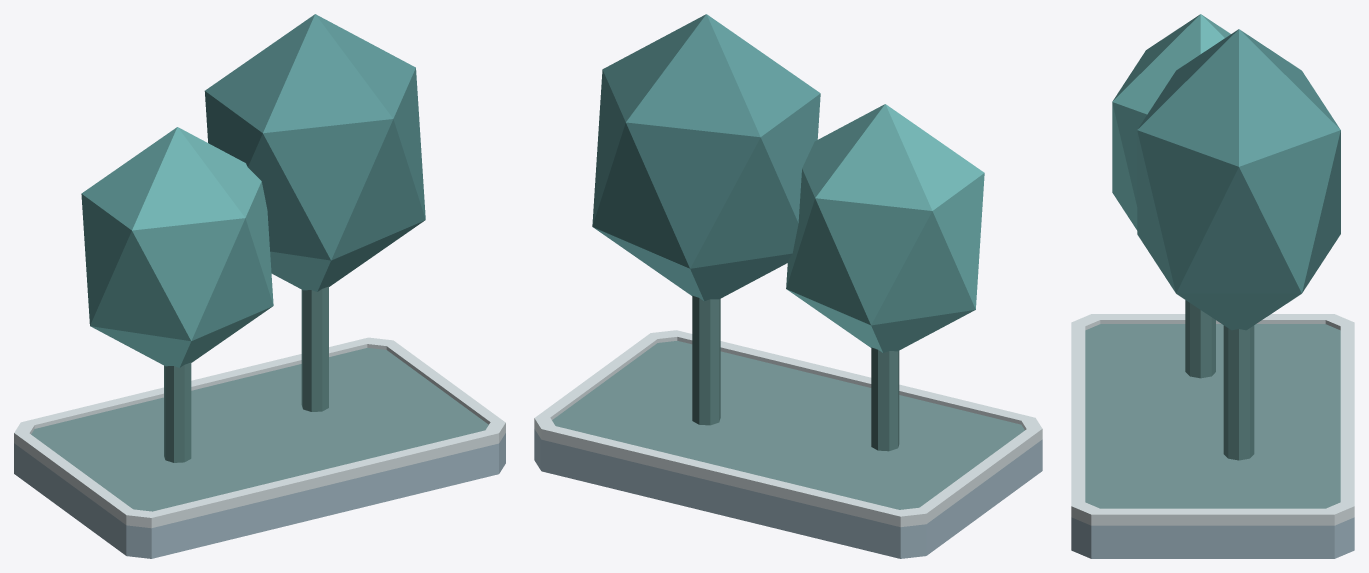
File: campus_tree_cluster_v01.glb
The picture shows the model from 3 angles, left to right: view 1: azimuth 30°, elevation 25°; view 2: azimuth 150°, elevation 25°; view 3: azimuth 270°, elevation 25°; orthographic projection. The views are drawn at different scales.
Parts seen in each view (by area): view 1: campus_tree_cluster; view 2: campus_tree_cluster; view 3: campus_tree_cluster.
Part boxes in pixels (<box>): campus_tree_cluster: <box>14,14,505,558</box>; campus_tree_cluster: <box>534,14,1042,558</box>; campus_tree_cluster: <box>1071,14,1354,558</box>.
Size of the model in its own units: 3.1 by 3.35 by 1.85.
1 material, 1 textured.
